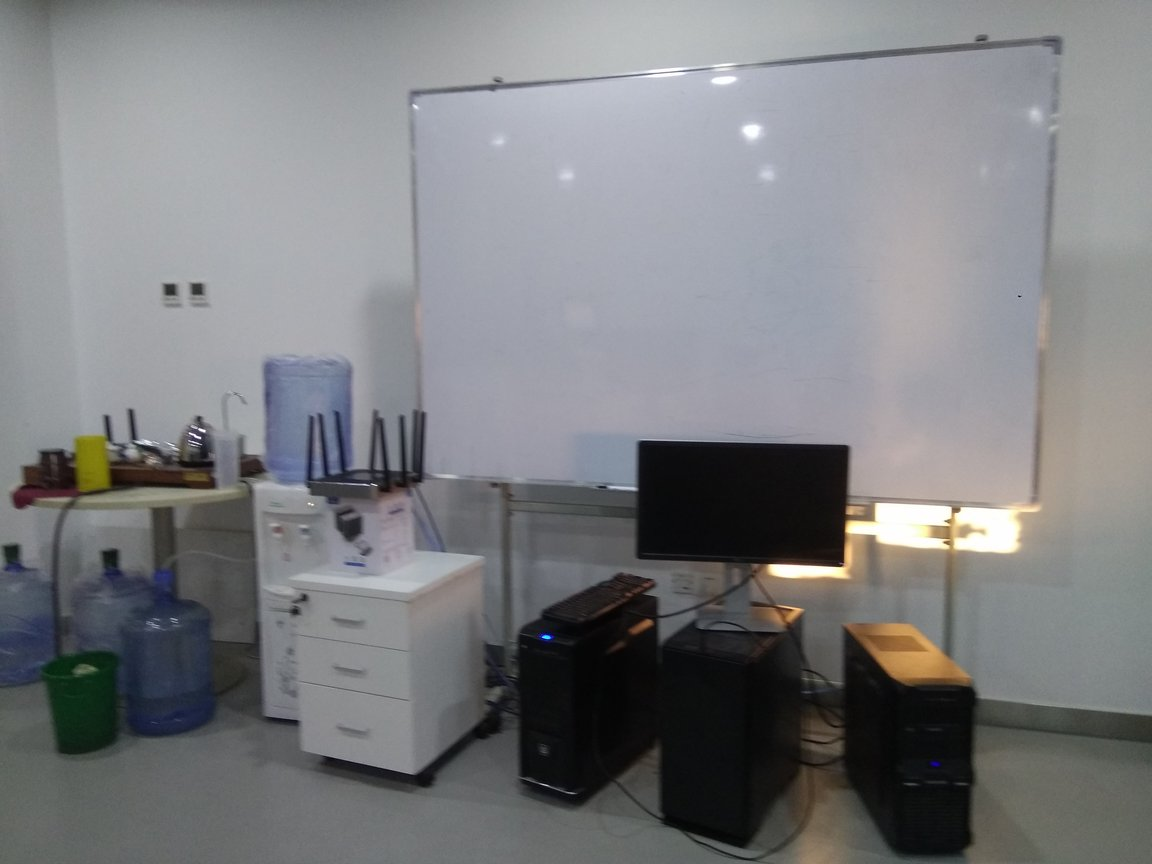computer: (842, 618, 987, 864), (656, 605, 803, 846), (511, 593, 659, 812)
drawer chest: (292, 544, 492, 805)
monitor: (628, 429, 854, 634)
scuttlebutt: (251, 352, 362, 494), (60, 547, 157, 704), (129, 571, 216, 738), (1, 550, 70, 688)
water dispenser: (251, 474, 357, 737)
